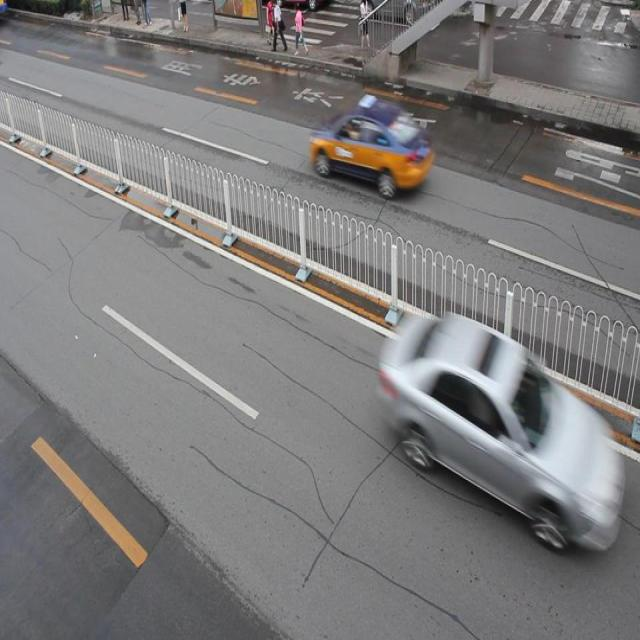car: (381, 314, 618, 548), (311, 96, 434, 196)
